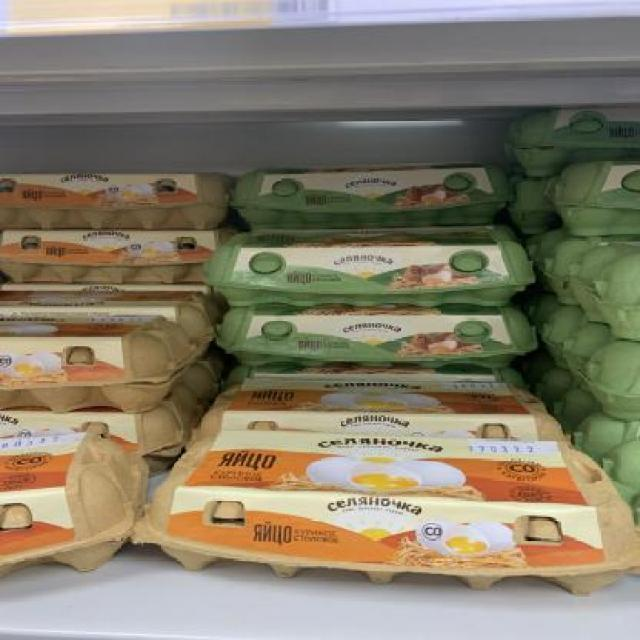egg: (136, 432, 635, 588), (206, 229, 539, 308), (0, 428, 148, 572), (192, 380, 570, 436), (214, 306, 542, 368), (230, 161, 518, 227), (0, 313, 192, 409), (0, 171, 229, 231), (0, 229, 214, 285), (498, 104, 640, 172), (570, 237, 640, 341), (564, 324, 640, 418), (556, 158, 640, 234)
